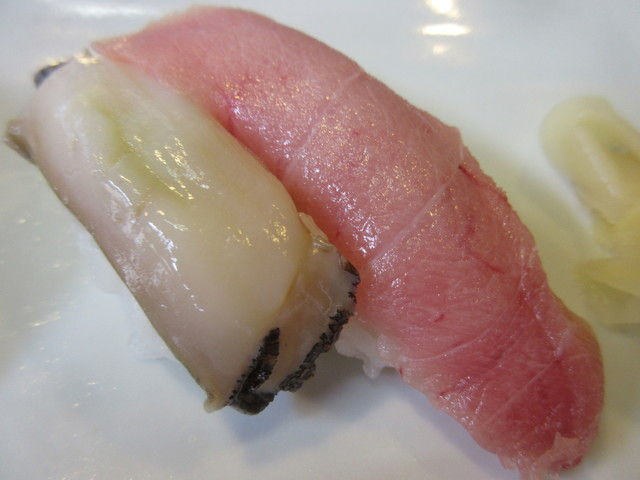medium_fatty_tuna: (111, 6, 611, 475)
